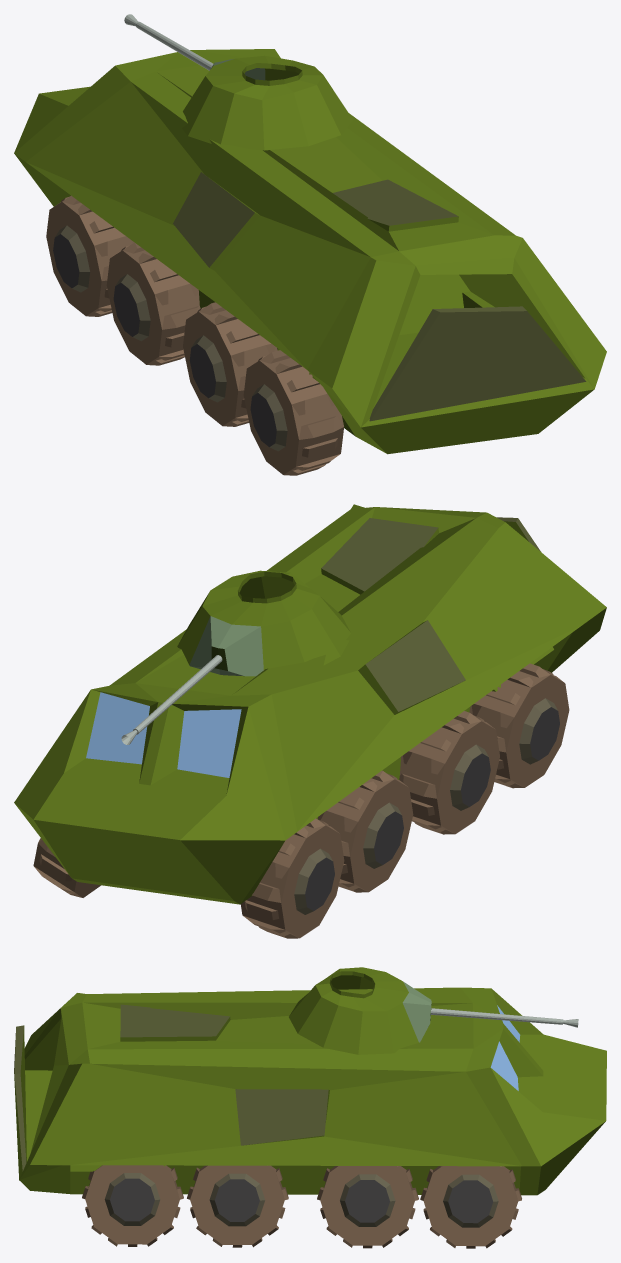
The model's file is BtrDestroyed.fbx.
3 renders of one model, top to bottom at view 1: azimuth 30°, elevation 25°; view 2: azimuth 150°, elevation 25°; view 3: azimuth 270°, elevation 25°, orthographic. The views are drawn at different scales.
Parts seen in each view (by area): view 1: BTRrunko, Rengas.010, BtrPiippu; view 2: BTRrunko, Rengas.010, BtrPiippu, Rengas.003; view 3: BTRrunko, Rengas.003, BtrPiippu.
Part boxes in pixels (<box>): BTRrunko: <box>14,49,606,454</box>; Rengas.010: <box>46,195,343,475</box>; BtrPiippu: <box>124,14,353,150</box>; BTRrunko: <box>14,504,606,904</box>; Rengas.010: <box>240,663,569,938</box>; BtrPiippu: <box>121,570,350,744</box>; Rengas.003: <box>33,838,100,897</box>; BTRrunko: <box>14,987,606,1195</box>; Rengas.003: <box>82,1165,521,1248</box>; BtrPiippu: <box>289,967,578,1054</box>.
Size of the model in its own units: 350 by 327 by 782.
